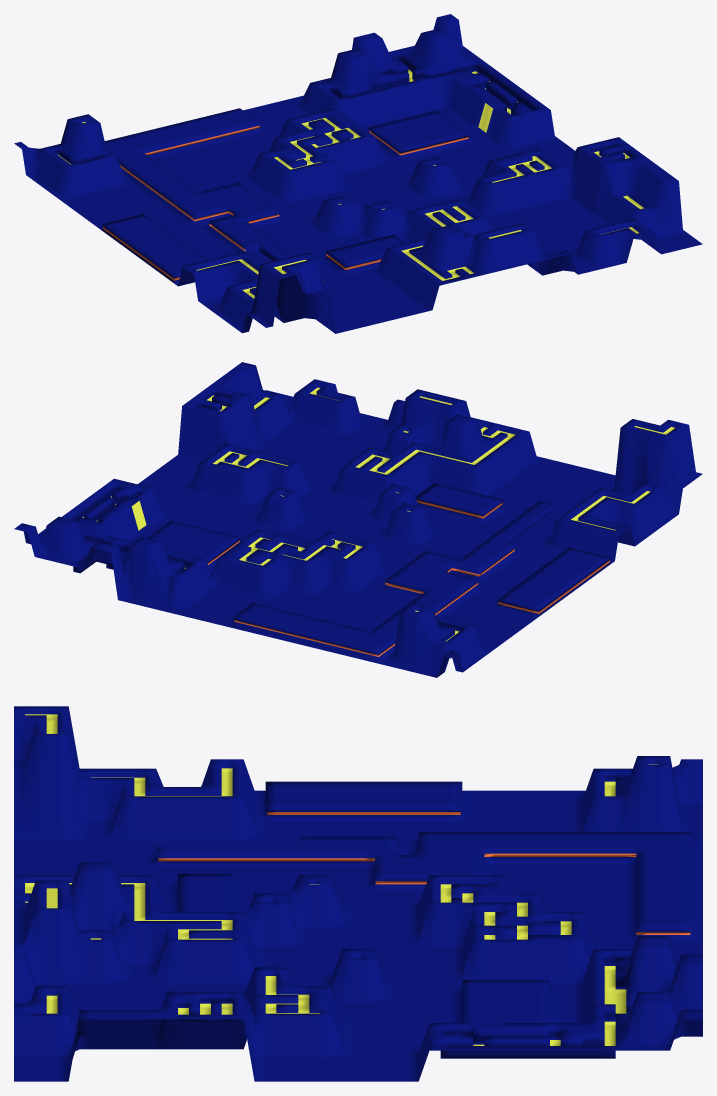
Rendered from Level13B2.fbx.
The picture shows the model from 3 angles, top to bottom: view 1: azimuth 30°, elevation 25°; view 2: azimuth 150°, elevation 25°; view 3: azimuth 270°, elevation 25°; orthographic projection. The views are drawn at different scales.
Parts seen in each view (by area): view 1: Landscape; view 2: Landscape; view 3: Landscape.
Part boxes in pixels (x1,y1,x2,y2): Landscape: (14,14,702,333); Landscape: (14,362,702,677); Landscape: (14,706,702,1081).
Size of the model in its own units: 200 by 30.33 by 200.
